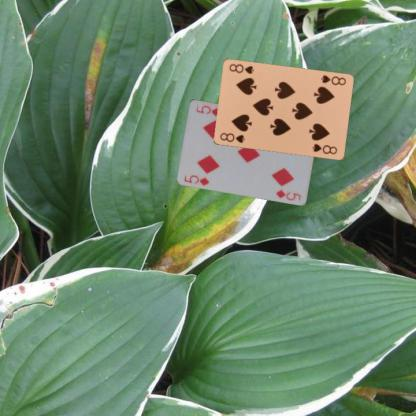5d: (182, 172, 211, 187)
8s: (217, 130, 246, 144), (318, 72, 347, 86)
